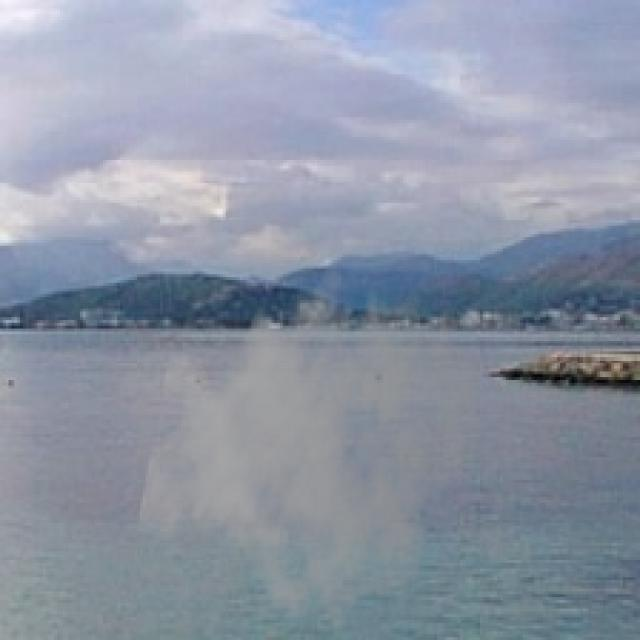smoke: (134, 246, 494, 637)
